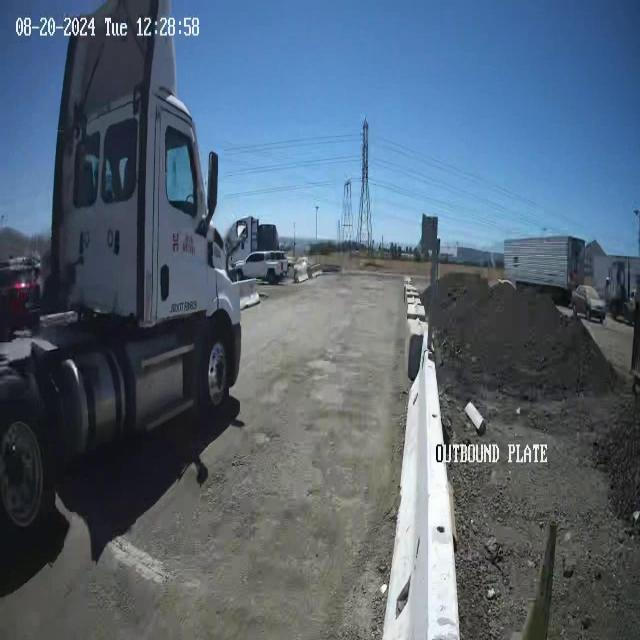TRUCK_IN: (1, 1, 250, 535)
